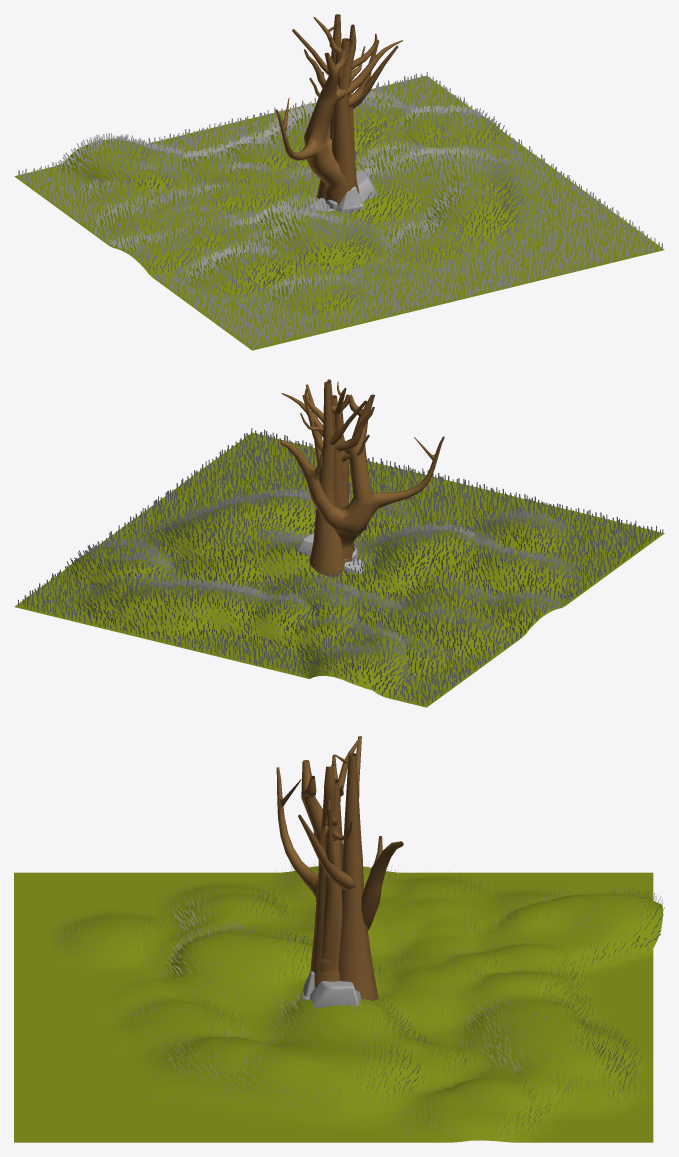
The model's file is WalnutGrove_BGBundle.fbx.
3 views of the same model, one above another, from view 1: azimuth 30°, elevation 25°; view 2: azimuth 150°, elevation 25°; view 3: azimuth 270°, elevation 25° (orthographic). The views are drawn at different scales.
Visible parts, largest first — view 1: WG_Terrain_GroundPlane, WG_GrassPlanes, WG_Tree04, WG_Tree03, WG_Tree05, WG_Tree02, WG_Rock03, WG_Tree01; view 2: WG_Terrain_GroundPlane, WG_GrassPlanes, WG_Tree04, WG_Tree05, WG_Tree02, WG_Tree03, WG_Tree01; view 3: WG_Terrain_GroundPlane, WG_GrassPlanes, WG_Tree05, WG_Tree04, WG_Tree03, WG_Tree01, WG_Rock03, WG_Tree02.
Part boxes in pixels (box(x1,y1,x2,y2)): WG_Terrain_GroundPlane: box(14, 75, 664, 350); WG_GrassPlanes: box(18, 72, 662, 349); WG_Tree04: box(276, 40, 402, 203); WG_Tree03: box(313, 17, 379, 206); WG_Tree05: box(292, 14, 398, 200); WG_Tree02: box(304, 34, 377, 154); WG_Rock03: box(305, 171, 377, 211); WG_Tree01: box(309, 37, 365, 159); WG_Terrain_GroundPlane: box(14, 432, 664, 707); WG_GrassPlanes: box(18, 428, 663, 705); WG_Tree04: box(279, 393, 444, 562); WG_Tree05: box(305, 381, 366, 577); WG_Tree02: box(304, 388, 374, 507); WG_Tree03: box(302, 379, 354, 554); WG_Tree01: box(300, 394, 369, 461); WG_Terrain_GroundPlane: box(14, 866, 663, 1142); WG_GrassPlanes: box(50, 862, 664, 1140); WG_Tree05: box(298, 736, 378, 1000); WG_Tree04: box(276, 760, 403, 987); WG_Tree03: box(310, 739, 360, 987); WG_Tree01: box(322, 764, 352, 964); WG_Rock03: box(310, 981, 360, 1008); WG_Tree02: box(320, 754, 342, 972).
Bounding box in the file's own units: 30.19 × 13.43 × 30.55.
